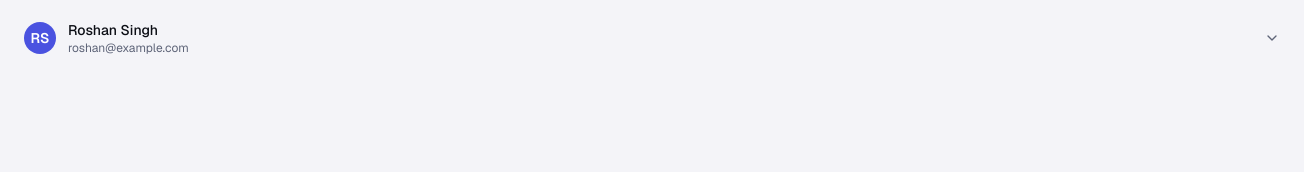
it: UserMenu › opens the menu and exposes a log out item
This screenshot has width=1304, height=172.
expect the menu item "log out" is not shown: met
Click the button "RS Roshan Singh roshan@example.com" at [40, 38], box [12,12,1292,64]
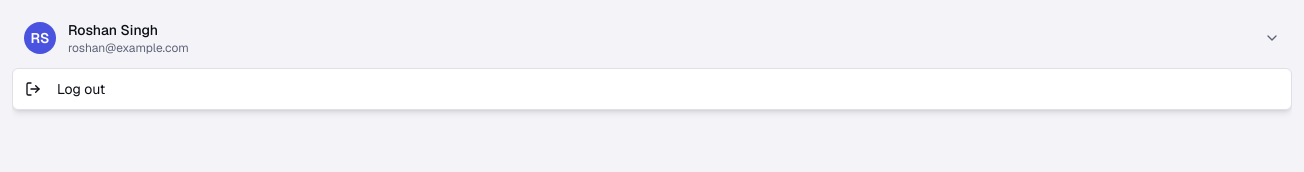
expect the menu item "Log out" is shown: met, box [25,80,105,98]
